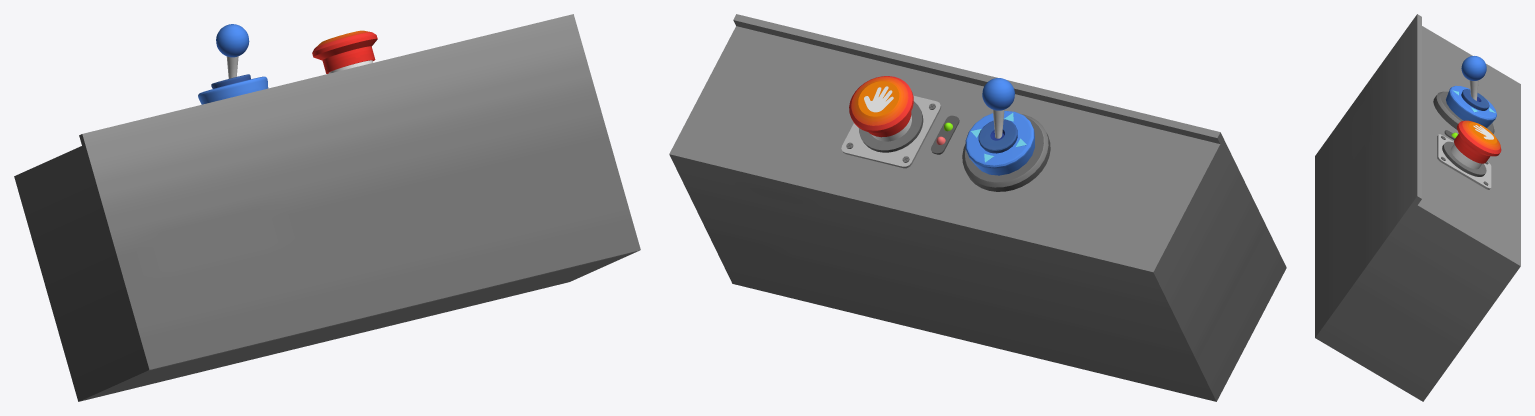
File: Joystick Dashboard.fbx
3 views of the same model, side by side, from view 1: azimuth 30°, elevation 25°; view 2: azimuth 150°, elevation 25°; view 3: azimuth 270°, elevation 25° (orthographic). The views are drawn at different scales.
Parts seen in each view (by area): view 1: Joystick_Dashboard, Joystick (×2), Button_UP; view 2: Joystick_Dashboard, Joystick (×2), Button_Base, Button_UP, Joystick_Base; view 3: Joystick_Dashboard, Joystick (×2), Button_UP, Button_Base, Joystick_Base, Button_DOWN.
Part boxes in pixels (box(x1,y1,x2,y2)): Joystick_Dashboard: box(14, 14, 640, 401); Joystick (×2): box(198, 24, 268, 104); Button_UP: box(312, 30, 377, 73); Joystick_Dashboard: box(669, 14, 1286, 401); Joystick (×2): box(965, 78, 1034, 175); Button_Base: box(841, 95, 941, 168); Button_UP: box(849, 76, 913, 137); Joystick_Base: box(962, 114, 1050, 191); Joystick_Dashboard: box(1315, 14, 1520, 401); Joystick (×2): box(1446, 56, 1496, 127); Button_UP: box(1454, 120, 1501, 163); Button_Base: box(1437, 134, 1491, 189); Joystick_Base: box(1433, 91, 1494, 133); Button_DOWN: box(1450, 144, 1481, 169).
Bounding box in the file's own units: 471 × 281 × 225.
